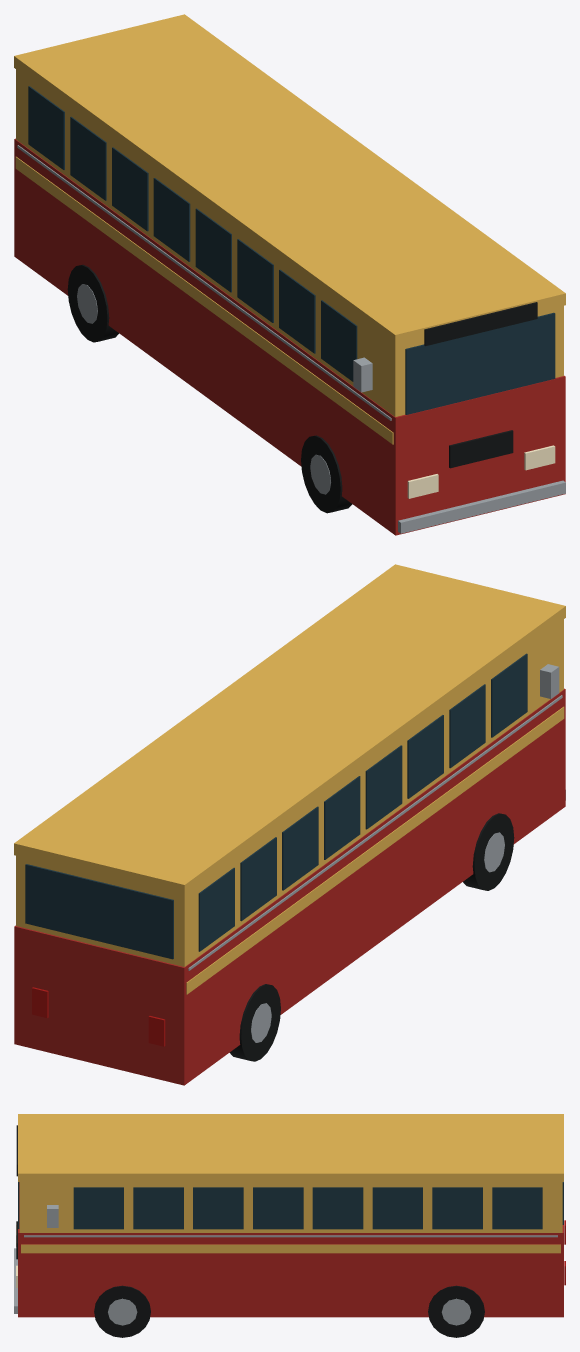
File: bus.glb
3 views of the same model, one above another, from view 1: azimuth 30°, elevation 25°; view 2: azimuth 150°, elevation 25°; view 3: azimuth 270°, elevation 25° (orthographic). The views are drawn at different scales.
Size of the model in its own units: 2.82 by 3.11 by 9.51.
